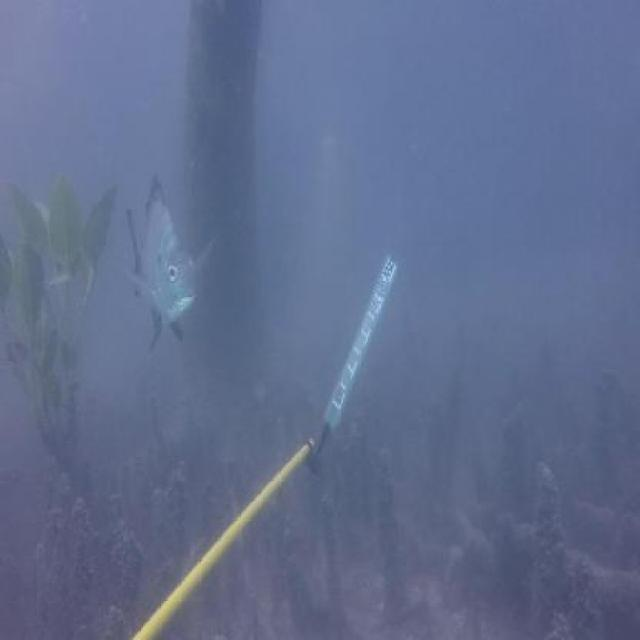acanthopagrus_palmaris: (124, 176, 205, 352)
